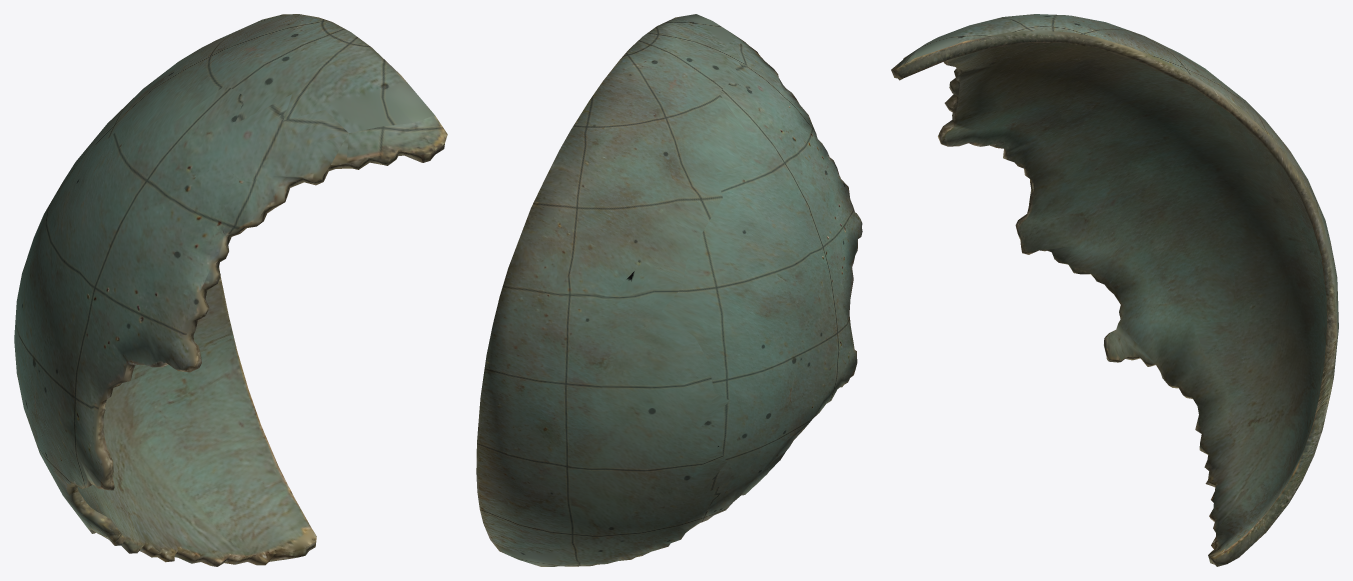
Rendered from StarShell_LOD1.fbx.
3 renders of one model, left to right at view 1: azimuth 30°, elevation 25°; view 2: azimuth 150°, elevation 25°; view 3: azimuth 270°, elevation 25°, orthographic. The views are drawn at different scales.
Parts seen in each view (by area): view 1: StarShell_LOD1; view 2: StarShell_LOD1; view 3: StarShell_LOD1.
Boxes of the visible parts, x1,y1,x2,y2 form: StarShell_LOD1: [14, 14, 447, 566]; StarShell_LOD1: [476, 14, 862, 566]; StarShell_LOD1: [891, 14, 1338, 566].
Size of the model in its own units: 0.9147 by 1.6 by 1.27.
Materials: 1 (1 with a texture image).
